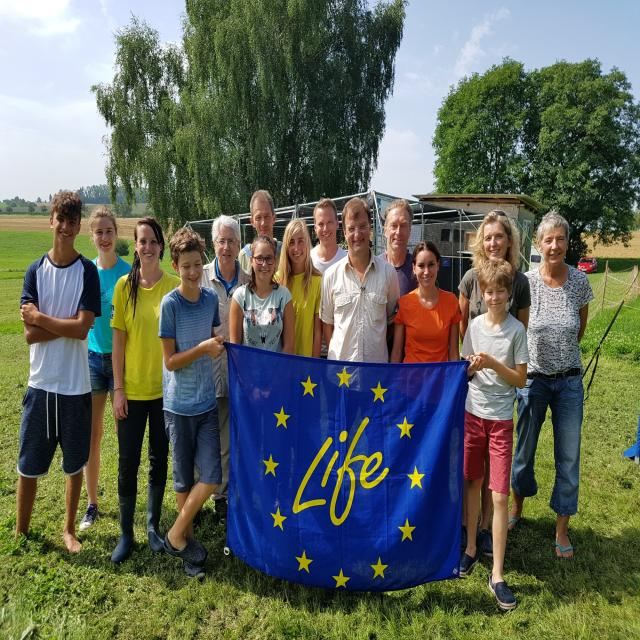body: (6, 190, 100, 556), (506, 208, 595, 562), (108, 215, 187, 567), (452, 257, 528, 614), (457, 207, 531, 558), (155, 222, 224, 578), (78, 205, 134, 532), (201, 213, 251, 525), (321, 196, 402, 363), (368, 190, 426, 346), (389, 240, 461, 363), (228, 233, 294, 358), (272, 216, 325, 359), (232, 187, 289, 288), (300, 195, 352, 288)
